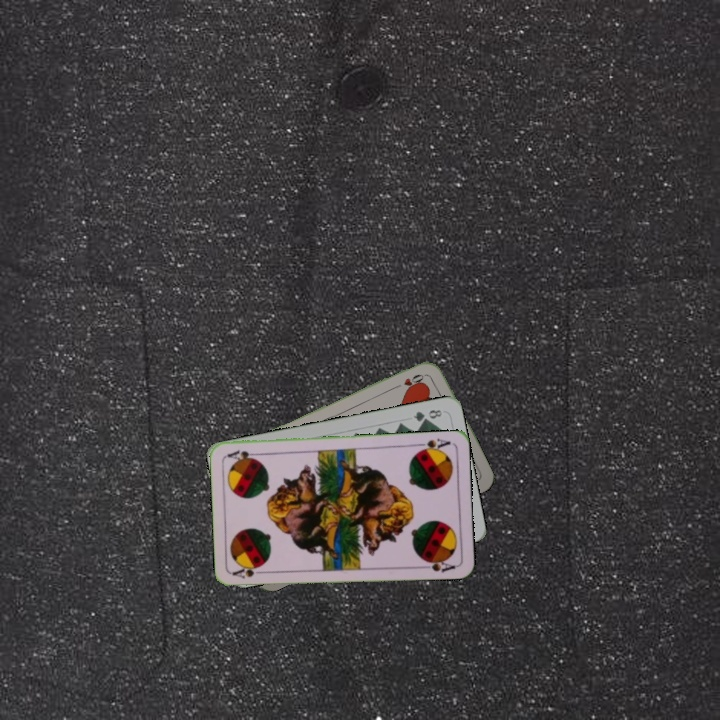G8: (409, 405, 445, 424)
HO: (390, 370, 429, 392)
SA: (412, 434, 453, 455), (229, 563, 270, 581)
